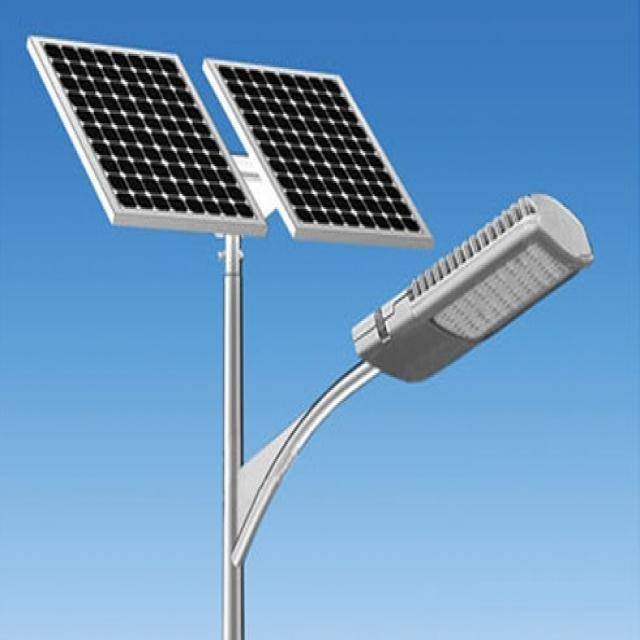Normal Solar Panel: (29, 37, 266, 222), (209, 63, 430, 237)
